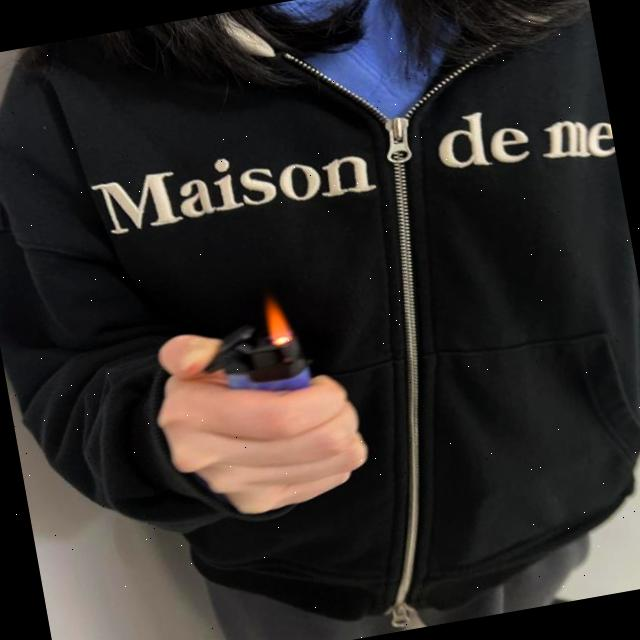fire: (259, 290, 295, 348)
